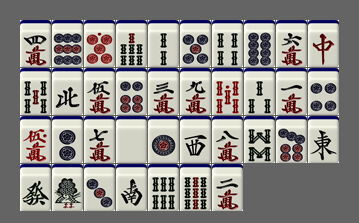0m: (20, 116, 51, 163)
0p: (84, 20, 115, 67)
0s: (212, 68, 243, 115)
1m: (276, 68, 307, 115)
1p: (148, 116, 179, 163)
1s: (52, 164, 83, 211)
1z: (308, 116, 339, 163)
2m: (212, 164, 243, 211)
2p: (52, 116, 83, 163)
2s: (148, 20, 179, 67)
2z: (116, 164, 147, 211)
3m: (148, 68, 179, 115)
3p: (84, 164, 115, 211)
3s: (244, 68, 275, 115)
3z: (180, 116, 211, 163)
4m: (20, 20, 51, 67)
4p: (308, 68, 339, 115)
4s: (212, 20, 243, 67)
4z: (52, 68, 83, 115)
5m: (84, 68, 115, 115)
5p: (180, 20, 211, 67)
5s: (20, 68, 51, 115)
5z: (116, 116, 147, 163)
6m: (276, 20, 307, 67)
6p: (116, 68, 147, 115)
6s: (148, 164, 179, 211)
6z: (20, 164, 51, 211)
7m: (84, 116, 115, 163)
7p: (276, 116, 307, 163)
7s: (116, 20, 147, 67)
7z: (308, 20, 339, 67)
8m: (212, 116, 243, 163)
8p: (244, 20, 275, 67)
8s: (244, 116, 275, 163)
9m: (180, 68, 211, 115)
9p: (52, 20, 83, 67)
9s: (180, 164, 211, 211)
